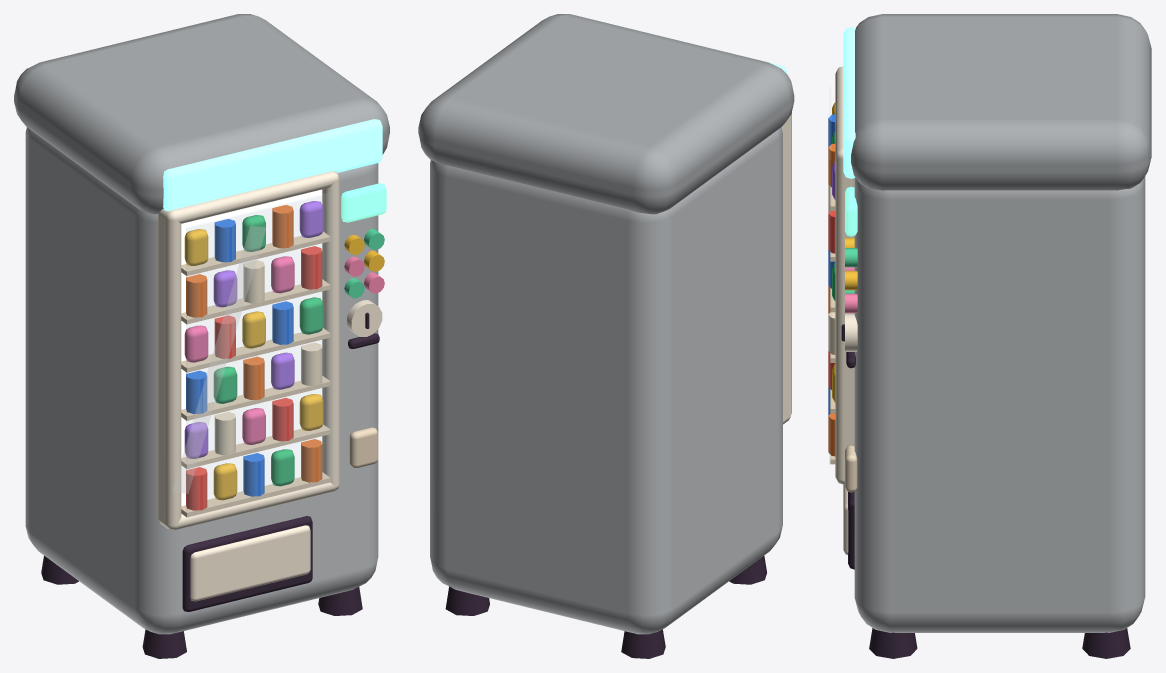
File: machine-rival.glb
The picture shows the model from 3 angles, left to right: view 1: azimuth 30°, elevation 25°; view 2: azimuth 150°, elevation 25°; view 3: azimuth 270°, elevation 25°; orthographic projection. The views are drawn at different scales.
Visible parts, largest first — view 1: cabinet, cap, glass, machine-rival, interior-back, header, frame-left, pickup-flap, frame-right, glass-shine, pickup-recess, frame-top (+34 smaller); view 2: cabinet, cap, frame-left, machine-rival; view 3: cabinet, cap, frame-right, machine-rival, header, frame-top, glass, screen, coin-return, pickup-recess, coin-slot.
Boxes of the visible parts, x1=… form: cabinet: x1=25, y1=127, x2=378, y2=634; cap: x1=14, y1=14, x2=389, y2=214; glass: x1=187, y1=193, x2=330, y2=517; machine-rival: x1=41, y1=229, x2=384, y2=658; interior-back: x1=181, y1=189, x2=322, y2=505; header: x1=163, y1=119, x2=382, y2=211; frame-left: x1=158, y1=209, x2=181, y2=529; pickup-flap: x1=190, y1=525, x2=310, y2=601; frame-right: x1=322, y1=171, x2=339, y2=490; glass-shine: x1=172, y1=226, x2=266, y2=493; pickup-recess: x1=182, y1=516, x2=312, y2=611; frame-top: x1=159, y1=171, x2=339, y2=223; cabinet: x1=430, y1=127, x2=782, y2=634; cap: x1=418, y1=14, x2=794, y2=214; frame-left: x1=781, y1=112, x2=791, y2=423; machine-rival: x1=445, y1=556, x2=766, y2=658; cabinet: x1=854, y1=176, x2=1145, y2=632; cap: x1=851, y1=14, x2=1151, y2=190; frame-right: x1=835, y1=148, x2=854, y2=483; machine-rival: x1=830, y1=186, x2=1130, y2=658; header: x1=843, y1=27, x2=855, y2=178; frame-top: x1=835, y1=67, x2=843, y2=159; glass: x1=829, y1=87, x2=830, y2=463; screen: x1=845, y1=186, x2=857, y2=236; coin-return: x1=845, y1=445, x2=857, y2=492; pickup-recess: x1=848, y1=492, x2=854, y2=569; coin-slot: x1=845, y1=313, x2=857, y2=351.
Bounding box in the file's own units: 0.96 × 1.83 × 1.
